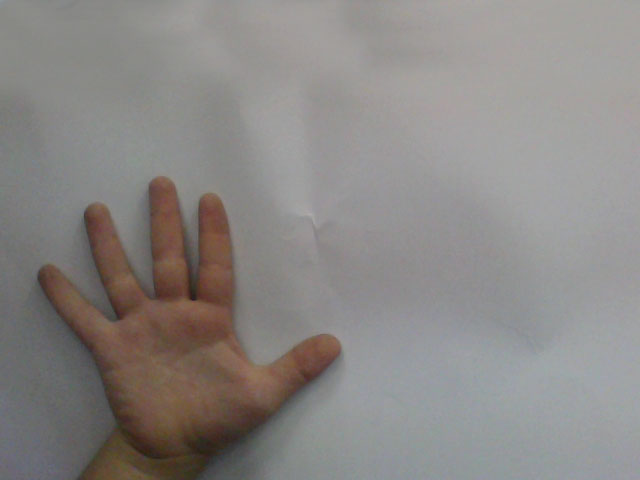hand: (23, 170, 364, 452)
